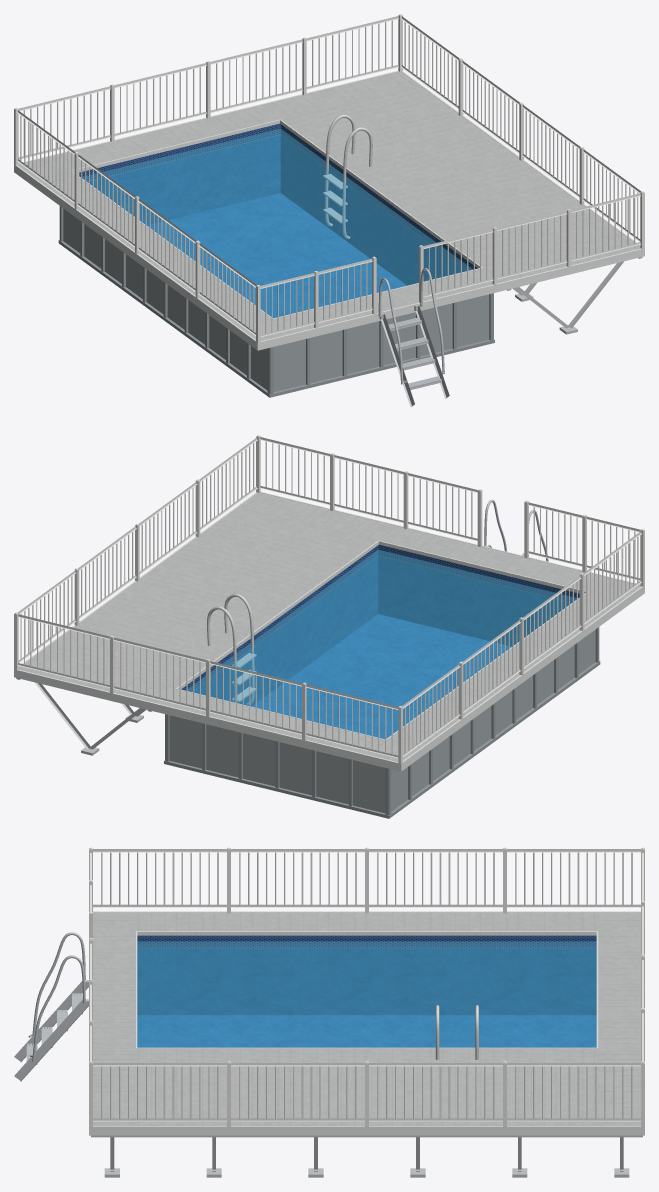
File: kayak-pool-12x20-gray-side-ag-fence.ae7915ba62.glb
3 views of the same model, one above another, from view 1: azimuth 30°, elevation 25°; view 2: azimuth 150°, elevation 25°; view 3: azimuth 270°, elevation 25° (orthographic). The views are drawn at different scales.
Visible parts, largest first — view 1: deck, water, fence, liner_wall, liner_floor, wall, fascia, upright, ladder, steel, stud; view 2: deck, water, fence, liner_wall, liner_floor, wall, fascia, upright, steel, stud; view 3: deck, water, liner_wall, fence, liner_floor, fascia, stud, ladder, steel.
Part boxes in pixels (box(x1,y1,x2,y2)): deck: box(18, 71, 640, 340); water: box(82, 128, 472, 318); fence: box(14, 14, 644, 342); liner_wall: box(79, 123, 477, 285); liner_floor: box(147, 193, 406, 318); wall: box(63, 208, 489, 392); fascia: box(14, 70, 644, 350); upright: box(58, 206, 494, 397); ladder: box(378, 268, 449, 406); steel: box(323, 114, 372, 239); stud: box(507, 257, 642, 334); deck: box(18, 492, 640, 761); water: box(187, 549, 576, 738); fence: box(14, 435, 644, 763); liner_wall: box(181, 544, 579, 706); liner_floor: box(252, 614, 511, 738); wall: box(169, 629, 595, 813); fascia: box(14, 491, 644, 771); upright: box(164, 627, 600, 818); steel: box(207, 593, 256, 705); stud: box(16, 678, 151, 755); deck: box(93, 912, 640, 1125); water: box(137, 941, 596, 1047); liner_wall: box(137, 935, 596, 1015); fence: box(89, 847, 644, 1126); liner_floor: box(137, 1015, 596, 1047); fascia: box(89, 911, 644, 1135); stud: box(91, 1135, 642, 1177); ladder: box(14, 932, 88, 1081); steel: box(435, 1005, 478, 1059).
Bounding box in the file's own units: 6.71 × 2.15 × 8.3.
Materials: 11 (3 with a texture image).
